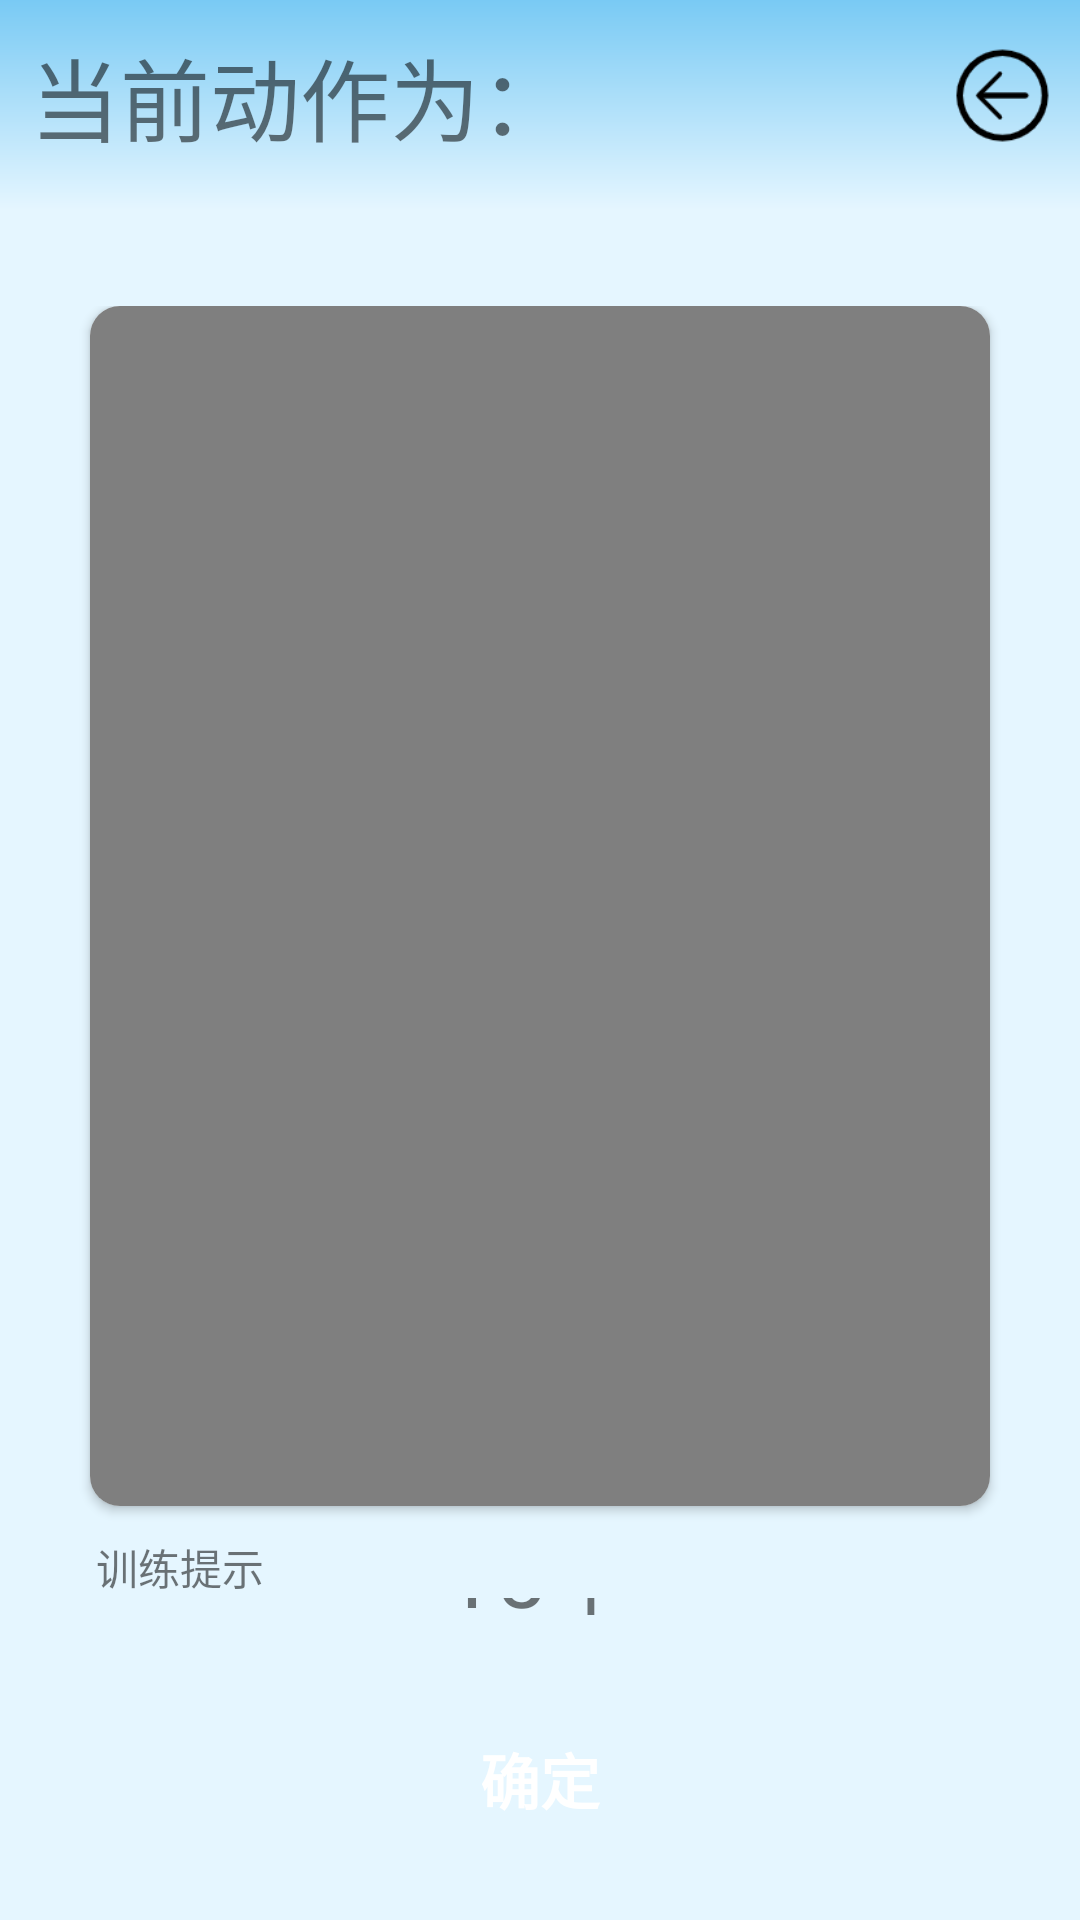

Screen size 1080*1920. Icon name, then its center in pixels as (x,y):
back: (1002,95)
